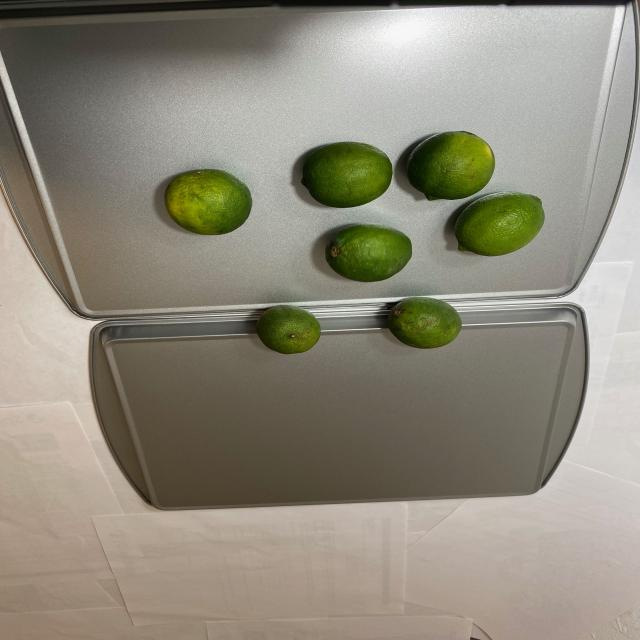lemon: (160, 128, 546, 358)
